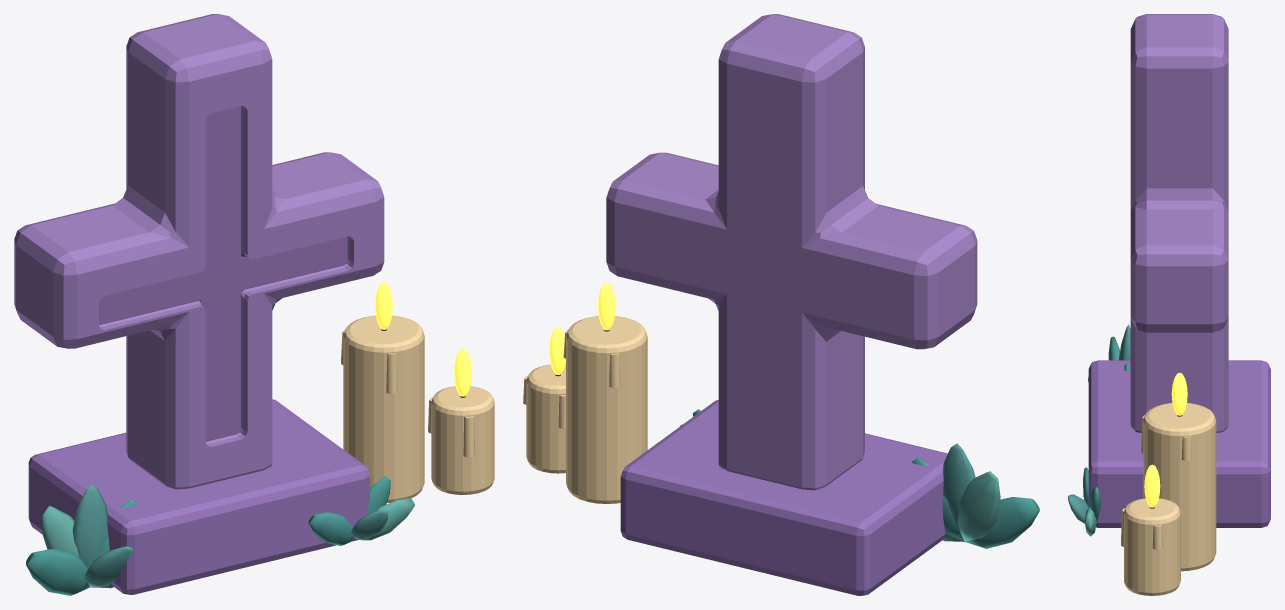
Rendered from cross_tombstone_REMADE.glb.
3 renders of one model, left to right at view 1: azimuth 30°, elevation 25°; view 2: azimuth 150°, elevation 25°; view 3: azimuth 270°, elevation 25°, orthographic. The views are drawn at different scales.
Parts seen in each view (by area): view 1: cross_tombstone_REMADE_visual; view 2: cross_tombstone_REMADE_visual; view 3: cross_tombstone_REMADE_visual.
Part boxes in pixels (<box>): cross_tombstone_REMADE_visual: <box>14,14,494,595</box>; cross_tombstone_REMADE_visual: <box>523,14,1039,595</box>; cross_tombstone_REMADE_visual: <box>1068,14,1270,595</box>.
Bounding box in the file's own units: 2.23 × 2.16 × 0.8896.
